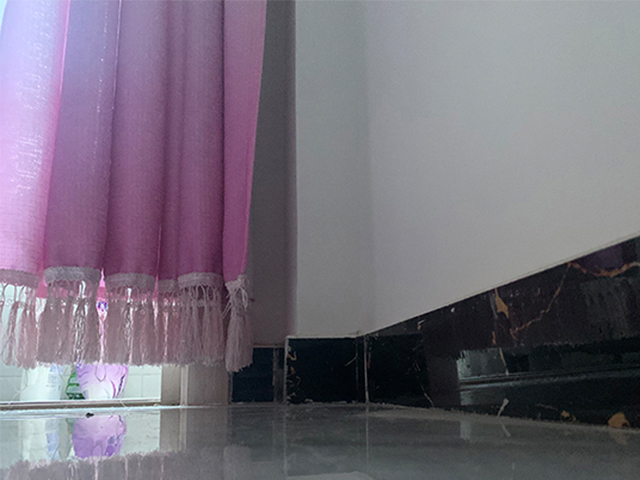curtain: (1, 1, 268, 372)
